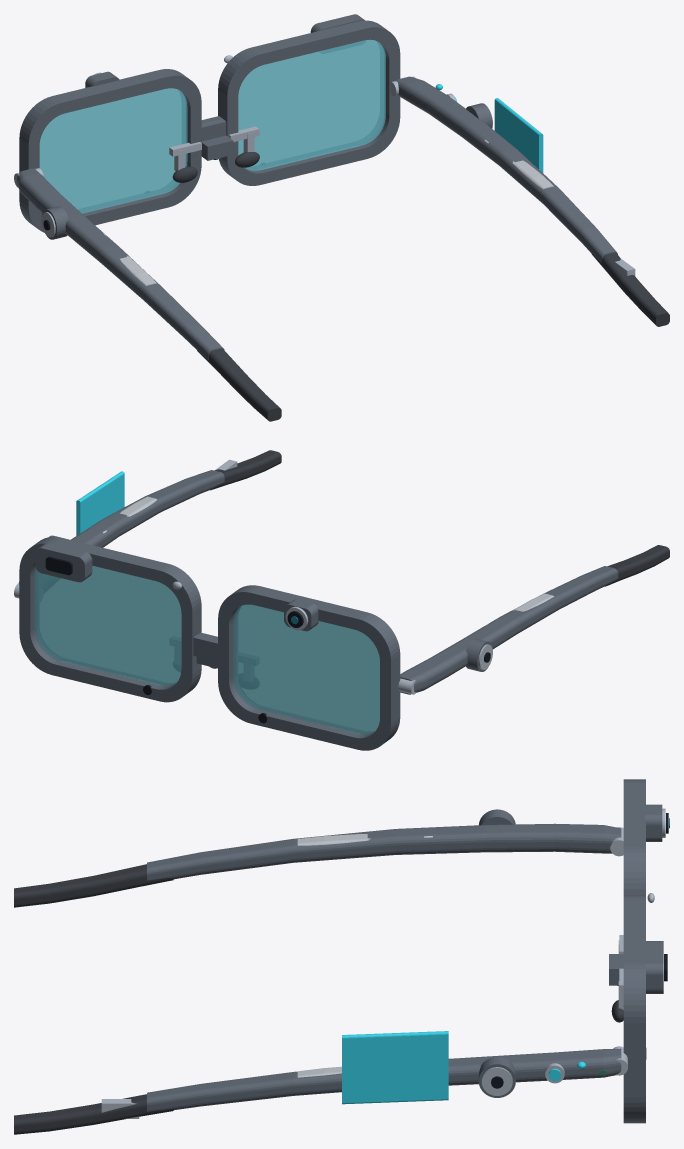
Rendered from SIGNLINK_Connect_Assembled.glb.
3 renders of one model, top to bottom at view 1: azimuth 30°, elevation 25°; view 2: azimuth 150°, elevation 25°; view 3: azimuth 270°, elevation 25°, orthographic. The views are drawn at different scales.
Parts seen in each view (by area): view 1: 23 | Right AR Waveguide / Combiner, 06 | Right Optical Lens, 22 | Left AR Waveguide / Combiner, 02 | Left Optical Lens, 05 | Right Front Frame Rim, 01 | Left Front Frame Rim, 16 | Right Temple Arm, 10 | Left Temple Arm, 48 | Right Temple Communication Control Strip, 11 | Left Temple Tip / Earpiece, 17 | Right Temple Tip / Earpiece, 31 | Wearer Hand-Sign Camera Housing; view 2: 02 | Left Optical Lens, 06 | Right Optical Lens, 22 | Left AR Waveguide / Combiner, 23 | Right AR Waveguide / Combiner, 01 | Left Front Frame Rim, 05 | Right Front Frame Rim, 10 | Left Temple Arm, 16 | Right Temple Arm, 48 | Right Temple Communication Control Strip, 24 | AR Microdisplay Projector Housing, 17 | Right Temple Tip / Earpiece, 11 | Left Temple Tip / Earpiece (+3 smaller); view 3: 10 | Left Temple Arm, 16 | Right Temple Arm, 48 | Right Temple Communication Control Strip, 05 | Right Front Frame Rim, 11 | Left Temple Tip / Earpiece, 01 | Left Front Frame Rim, 17 | Right Temple Tip / Earpiece, 24 | AR Microdisplay Projector Housing, 27 | Sign Recognition Front Camera Camera Housing, 12 | Left Rechargeable Battery Cell, 40 | Right Speaker Grille, 39 | Right Open-Ear Speaker Housing.
Part boxes in pixels (x1,y1,x2,y2): 23 | Right AR Waveguide / Combiner: [238, 39, 385, 170]; 06 | Right Optical Lens: [239, 40, 385, 170]; 22 | Left AR Waveguide / Combiner: [39, 88, 187, 213]; 02 | Left Optical Lens: [40, 89, 187, 213]; 05 | Right Front Frame Rim: [218, 20, 400, 185]; 01 | Left Front Frame Rim: [19, 69, 201, 232]; 16 | Right Temple Arm: [396, 76, 617, 262]; 10 | Left Temple Arm: [16, 168, 224, 359]; 48 | Right Temple Communication Control Strip: [494, 98, 543, 172]; 11 | Left Temple Tip / Earpiece: [197, 349, 281, 421]; 17 | Right Temple Tip / Earpiece: [591, 253, 669, 326]; 31 | Wearer Hand-Sign Camera Housing: [201, 135, 233, 160]; 02 | Left Optical Lens: [233, 604, 379, 734]; 06 | Right Optical Lens: [34, 565, 181, 686]; 22 | Left AR Waveguide / Combiner: [237, 605, 379, 731]; 23 | Right AR Waveguide / Combiner: [38, 566, 180, 683]; 01 | Left Front Frame Rim: [218, 585, 400, 750]; 05 | Right Front Frame Rim: [19, 536, 201, 702]; 10 | Left Temple Arm: [400, 566, 618, 694]; 16 | Right Temple Arm: [19, 470, 224, 582]; 48 | Right Temple Communication Control Strip: [76, 471, 124, 535]; 24 | AR Microdisplay Projector Housing: [35, 542, 92, 582]; 17 | Right Temple Tip / Earpiece: [210, 450, 281, 490]; 11 | Left Temple Tip / Earpiece: [605, 545, 669, 586]; 10 | Left Temple Arm: [147, 823, 621, 880]; 16 | Right Temple Arm: [147, 1048, 621, 1111]; 48 | Right Temple Communication Control Strip: [342, 1031, 448, 1104]; 05 | Right Front Frame Rim: [623, 895, 645, 1123]; 11 | Left Temple Tip / Earpiece: [14, 864, 173, 907]; 01 | Left Front Frame Rim: [623, 779, 645, 895]; 17 | Right Temple Tip / Earpiece: [14, 1094, 173, 1134]; 24 | AR Microdisplay Projector Housing: [646, 941, 663, 993]; 27 | Sign Recognition Front Camera Camera Housing: [644, 804, 662, 841]; 12 | Left Rechargeable Battery Cell: [297, 834, 432, 845]; 40 | Right Speaker Grille: [481, 1067, 512, 1095]; 39 | Right Open-Ear Speaker Housing: [478, 1056, 515, 1097].
Bounding box in the file's own units: 0.138 × 0.0403 × 0.1479.
